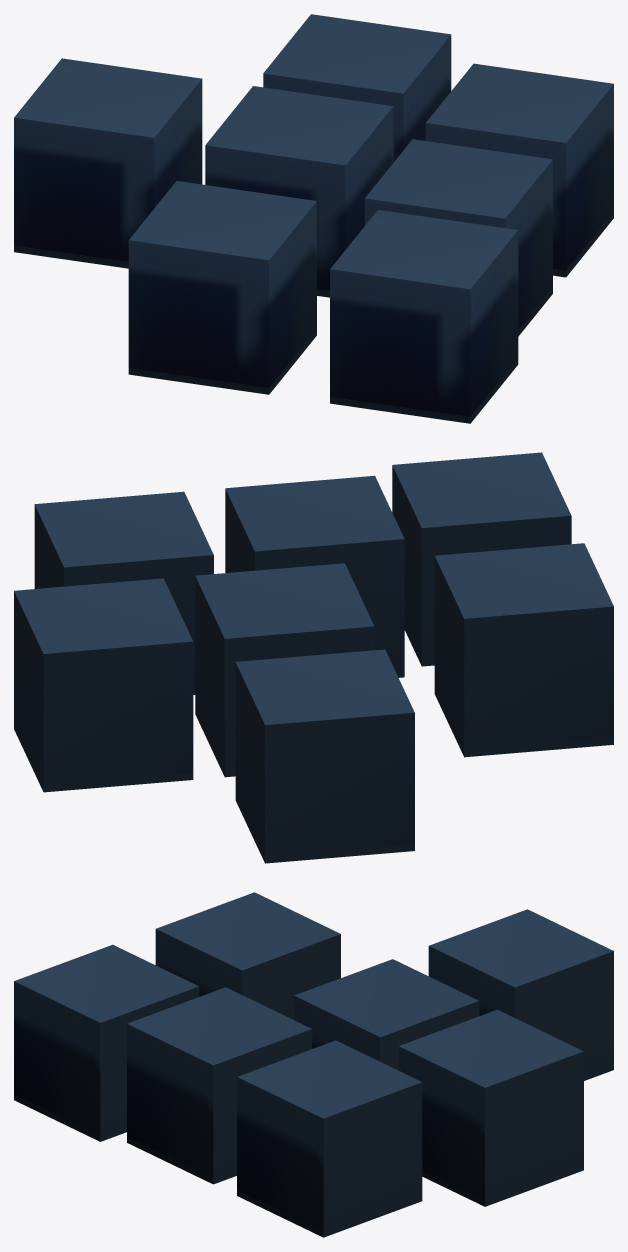
File: land_left.glb
3 views of the same model, one above another, from view 1: azimuth 30°, elevation 25°; view 2: azimuth 150°, elevation 25°; view 3: azimuth 270°, elevation 25° (orthographic). The views are drawn at different scales.
Parts seen in each view (by area): view 1: Cube.002; view 2: Cube.002; view 3: Cube.002.
Boxes of the visible parts, <box> form: Cube.002: <box>14,14,613,423</box>; Cube.002: <box>14,452,613,863</box>; Cube.002: <box>14,892,613,1237</box>.
Size of the model in its own units: 1.43 by 0.3513 by 1.6.
Materials: 1 (1 with a texture image).
